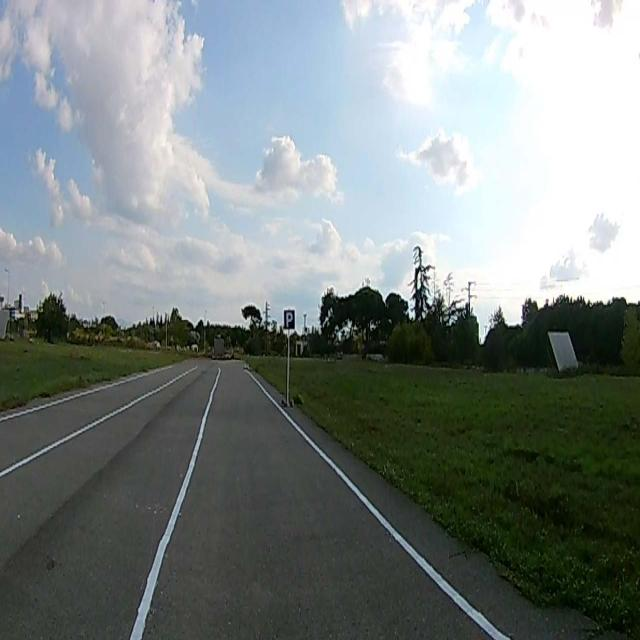park: (282, 308, 296, 330)
